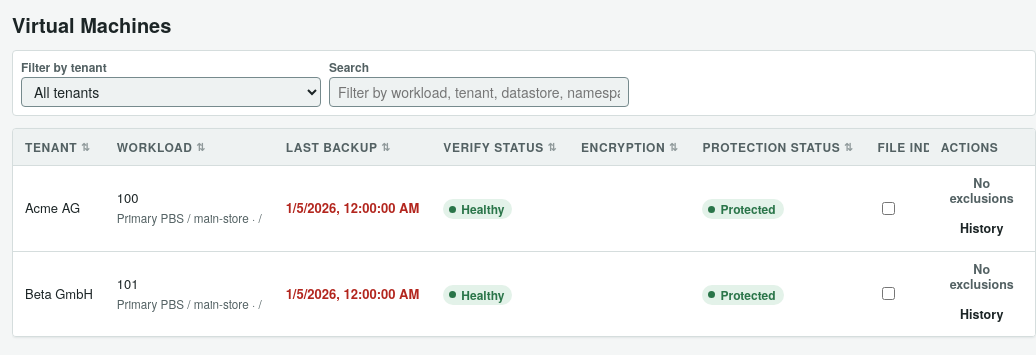
Scenario: ProtectedWorkloadsPage › filters by customer
Select "Acme AG" in the dropdown labelled "Filter by tenant": coordinates (171, 92) top-left (21, 77), bottom-right (321, 107)
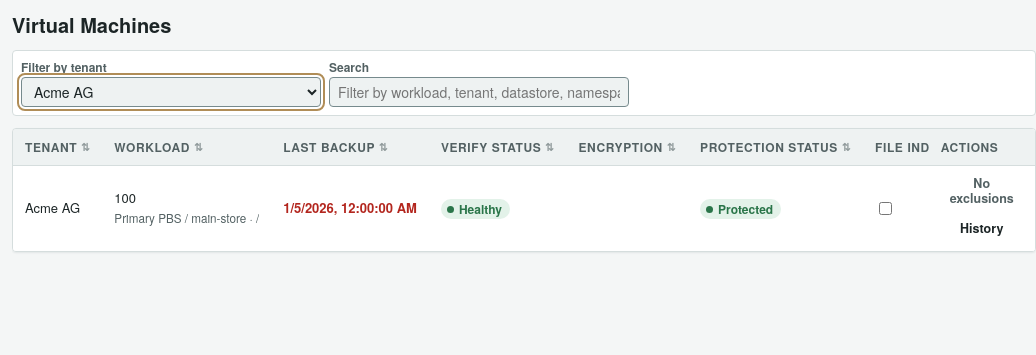
Check: the text "100" is shown, box top-left (114, 188), bottom-right (136, 207)
Check: the text "101" is gone
